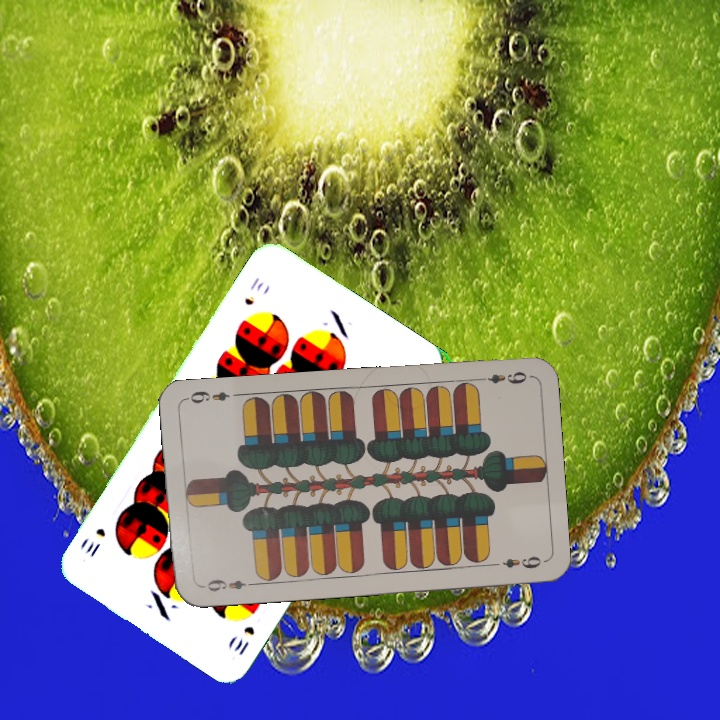E9: (473, 367, 530, 387), (196, 575, 255, 594)
S10: (230, 622, 258, 658), (240, 272, 267, 308)
